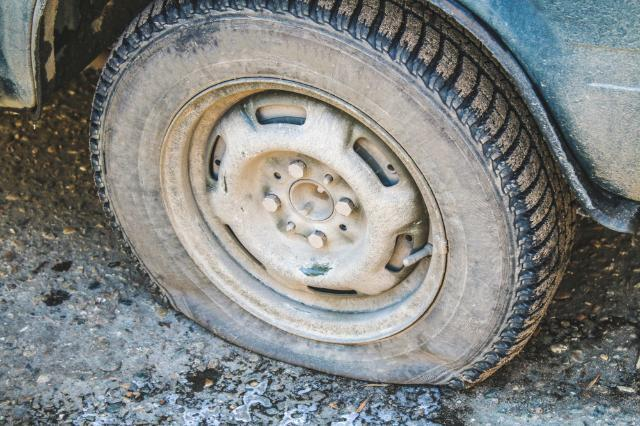tire flat: (89, 0, 580, 391)
